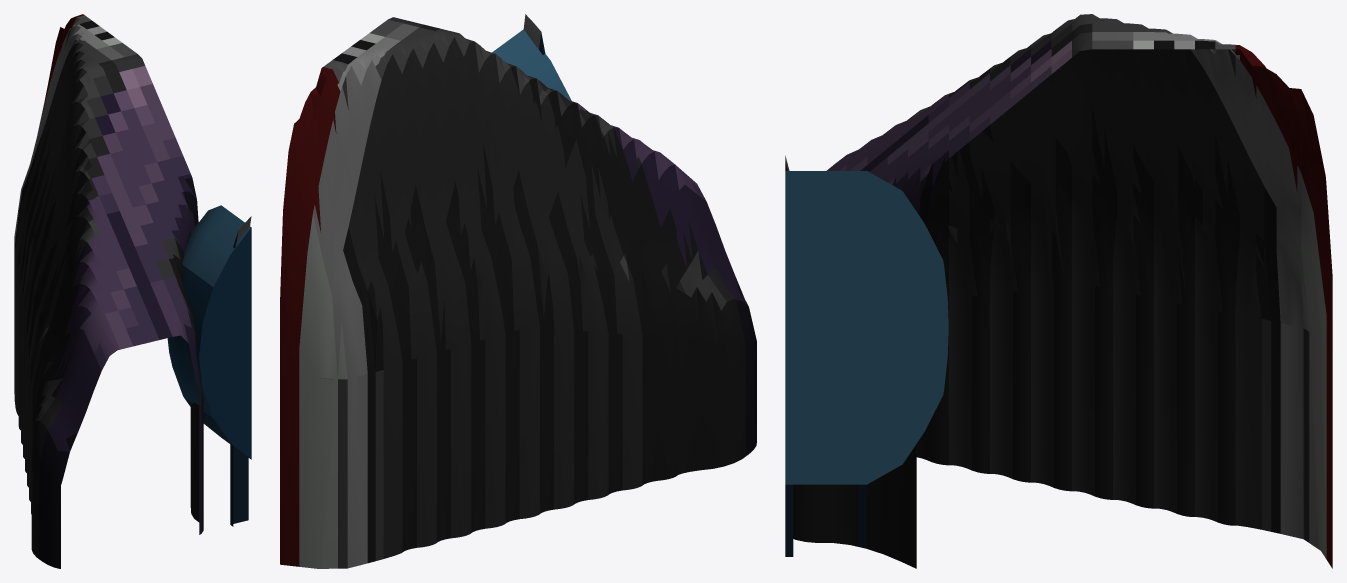
The model's file is camanis_boss_2.glb.
3 renders of one model, left to right at view 1: azimuth 30°, elevation 25°; view 2: azimuth 150°, elevation 25°; view 3: azimuth 270°, elevation 25°, orthographic. The views are drawn at different scales.
Visible parts, largest first — view 1: camanis_boss_2_hood, camanis_boss_2_tank, camanis_boss_2_tank_plate; view 2: camanis_boss_2_hood, camanis_boss_2_tank; view 3: camanis_boss_2_hood, camanis_boss_2_tank, camanis_boss_2_tank_plate.
Part boxes in pixels (x1,y1,x2,y2): camanis_boss_2_hood: (14, 14, 203, 568); camanis_boss_2_tank: (167, 205, 251, 459); camanis_boss_2_tank_plate: (230, 216, 251, 526); camanis_boss_2_hood: (280, 17, 756, 568); camanis_boss_2_tank: (492, 29, 571, 100); camanis_boss_2_hood: (793, 14, 1332, 568); camanis_boss_2_tank: (785, 171, 948, 484); camanis_boss_2_tank_plate: (785, 155, 793, 556).
Size of the model in its own units: 14.99 by 28 by 26.71.
